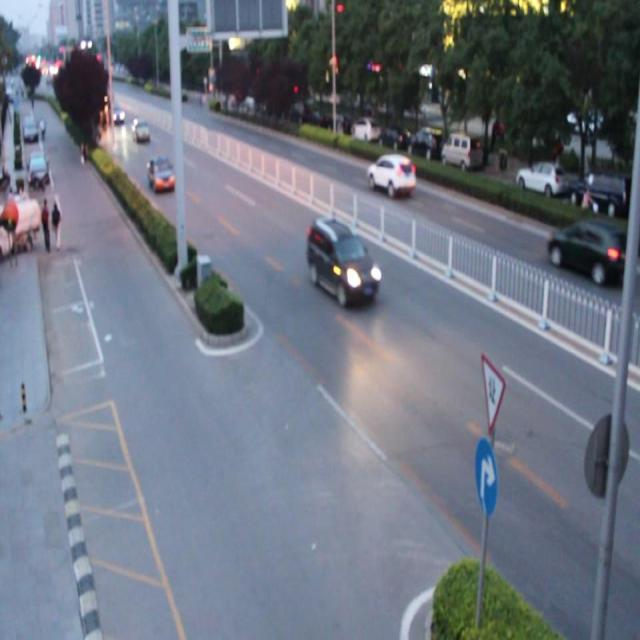car: (305, 216, 379, 308), (546, 215, 626, 291), (364, 152, 414, 198), (147, 157, 174, 193)
